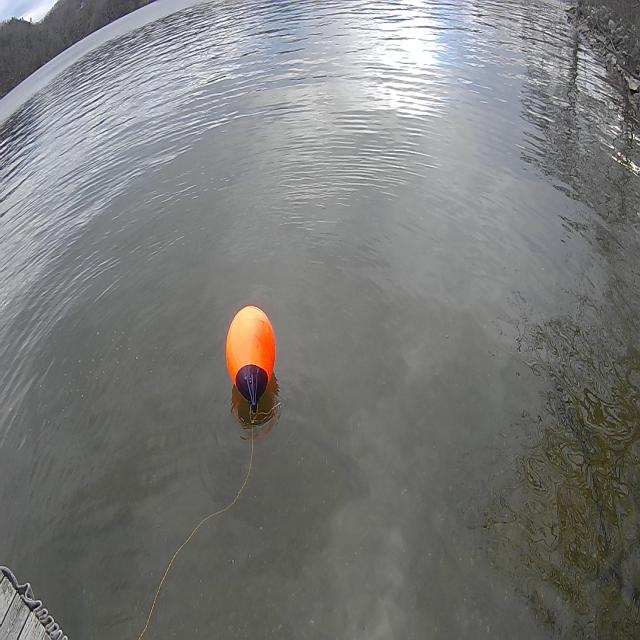Buoy: (225, 296, 281, 418)
